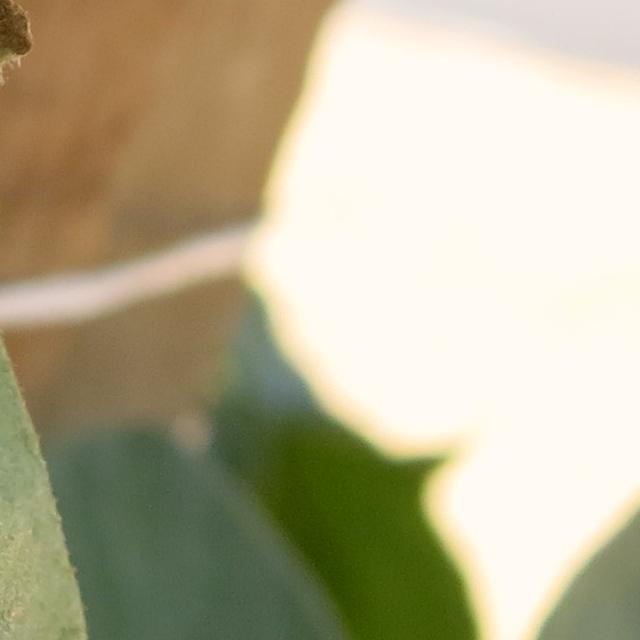Tomato leaf late blight: (0, 0, 362, 640)
